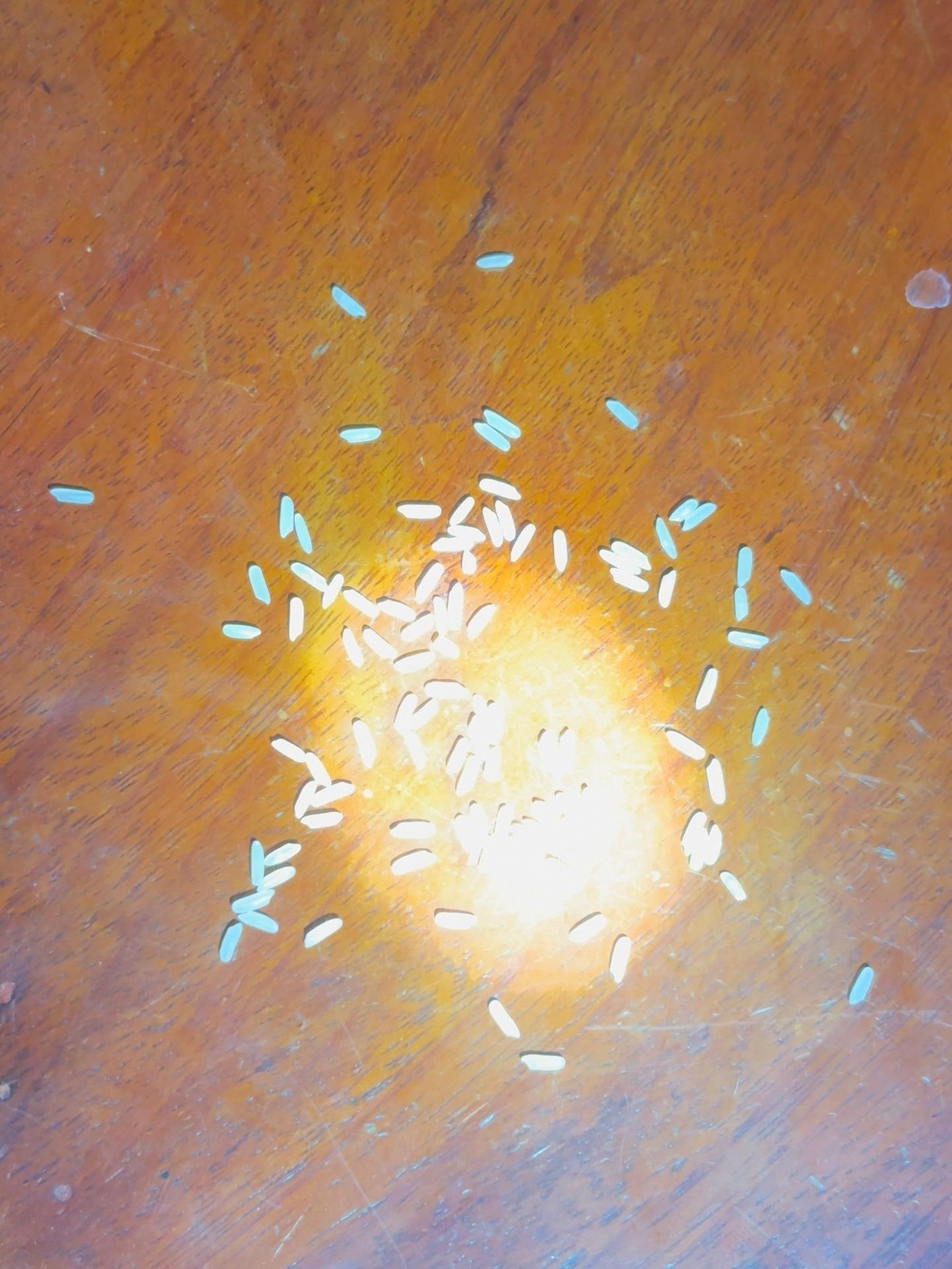Rice-th-y-nh: (540, 856, 587, 894), (536, 733, 564, 786), (488, 1001, 521, 1039), (303, 918, 343, 949), (415, 563, 445, 604), (665, 730, 706, 760), (612, 540, 652, 570), (465, 604, 498, 640), (484, 408, 522, 439), (452, 814, 480, 856), (352, 720, 377, 767), (456, 753, 483, 796), (680, 812, 707, 855), (780, 569, 812, 605), (569, 914, 607, 944), (609, 937, 633, 984), (362, 628, 397, 660), (291, 562, 328, 592), (391, 851, 437, 875), (424, 680, 472, 703), (485, 699, 509, 745), (311, 782, 355, 807), (406, 700, 439, 733), (332, 286, 366, 318), (474, 422, 510, 452), (509, 524, 536, 563), (343, 589, 378, 619), (599, 549, 641, 574), (609, 568, 649, 594), (394, 694, 419, 735), (695, 668, 719, 710), (446, 737, 471, 777), (606, 400, 639, 430), (682, 503, 716, 532), (654, 518, 678, 559), (394, 651, 435, 675), (304, 752, 332, 787), (849, 967, 874, 1006), (219, 923, 244, 962), (400, 615, 436, 642), (232, 891, 274, 914), (404, 731, 428, 771), (238, 911, 279, 934), (480, 478, 521, 501), (446, 583, 465, 632), (258, 866, 296, 890), (377, 599, 416, 622), (276, 496, 297, 538), (248, 566, 271, 604), (703, 825, 724, 866), (390, 821, 435, 840), (341, 629, 364, 666), (264, 843, 301, 866), (294, 781, 317, 818), (483, 507, 504, 547), (720, 871, 747, 902), (707, 759, 726, 803), (496, 500, 516, 541), (434, 911, 477, 930), (272, 739, 306, 763), (321, 574, 344, 609), (50, 487, 94, 505), (493, 803, 516, 837), (751, 708, 771, 747), (449, 497, 474, 528), (521, 1053, 564, 1071), (431, 536, 476, 553), (658, 570, 678, 608), (468, 803, 491, 836), (294, 514, 313, 553), (448, 523, 485, 543), (483, 746, 503, 783), (302, 811, 343, 829), (249, 840, 265, 886), (288, 597, 305, 640), (397, 503, 440, 520), (430, 635, 460, 659), (728, 631, 768, 649), (432, 597, 450, 635), (736, 547, 753, 587), (670, 499, 698, 523), (553, 530, 569, 572), (341, 428, 381, 443), (476, 253, 513, 269), (733, 587, 749, 622), (222, 625, 261, 639), (461, 551, 477, 575)
